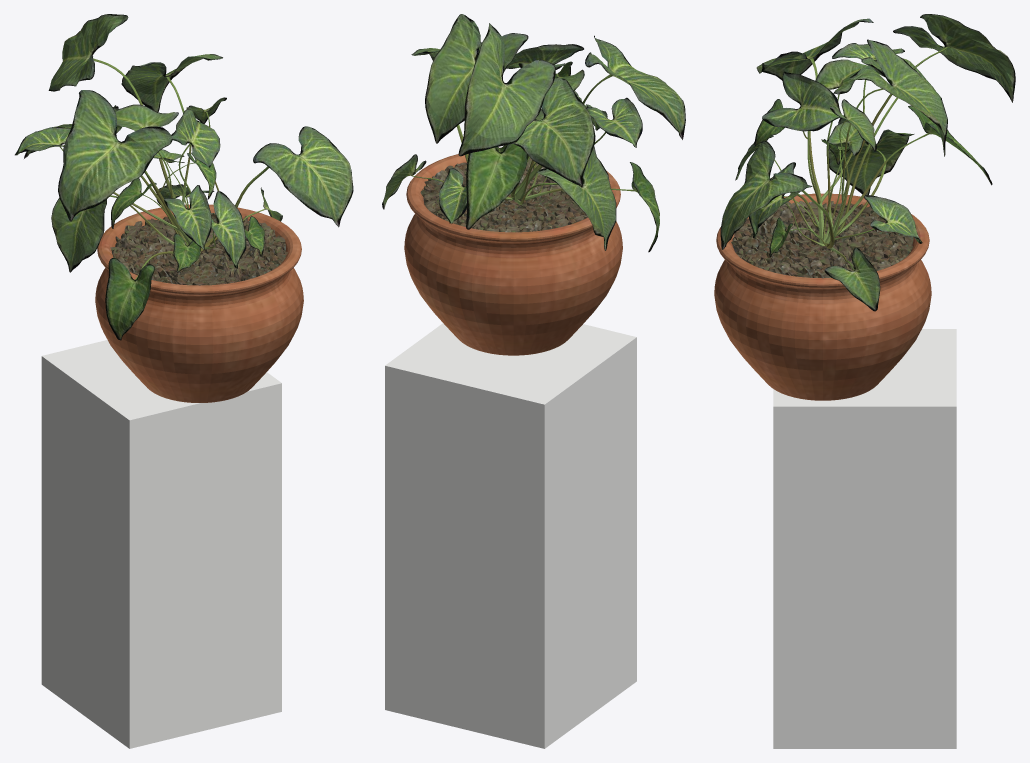
File: plant_large.glb
The picture shows the model from 3 angles, left to right: view 1: azimuth 30°, elevation 25°; view 2: azimuth 150°, elevation 25°; view 3: azimuth 270°, elevation 25°; orthographic projection. The views are drawn at different scales.
Visible parts, largest first — view 1: simple_c0, potted_plant_02_1_n0, potted_plant_02_2_n0, potted_plant_02_0_n0; view 2: simple_c0, potted_plant_02_1_n0, potted_plant_02_2_n0, potted_plant_02_0_n0; view 3: simple_c0, potted_plant_02_1_n0, potted_plant_02_2_n0, potted_plant_02_0_n0.
Boxes of the visible parts, x1,y1,x2,y2 form: simple_c0: (41,340,281,748); potted_plant_02_1_n0: (15,14,353,340); potted_plant_02_2_n0: (95,204,303,402); potted_plant_02_0_n0: (110,213,287,285); simple_c0: (385,323,636,748); potted_plant_02_1_n0: (382,14,685,252); potted_plant_02_2_n0: (404,147,622,355); potted_plant_02_0_n0: (420,157,587,232); simple_c0: (773,329,956,748); potted_plant_02_1_n0: (720,14,1015,311); potted_plant_02_2_n0: (714,193,931,400); potted_plant_02_0_n0: (731,201,913,278).
Size of the model in its own units: 0.596 by 1.42 by 0.5588.
3 materials, 2 textured.
